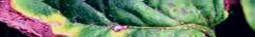Tomato leaf bacterial spot: (0, 0, 231, 37)
